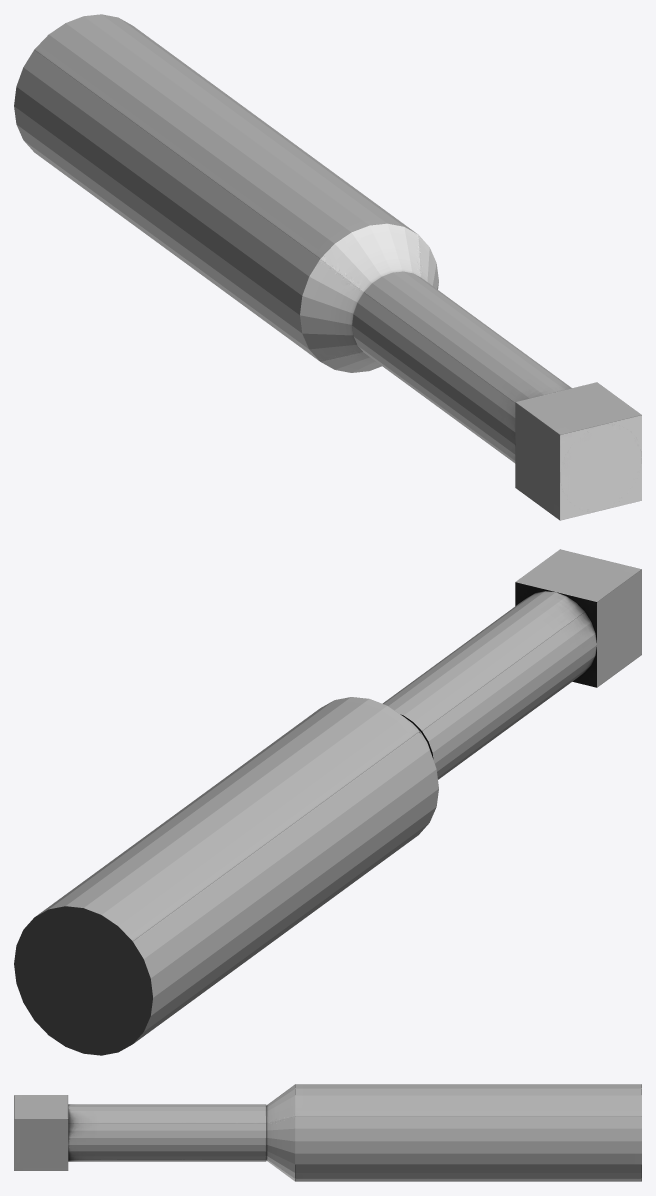
The model's file is dish_mount.obj.
3 renders of one model, top to bottom at view 1: azimuth 30°, elevation 25°; view 2: azimuth 150°, elevation 25°; view 3: azimuth 270°, elevation 25°, orthographic. The views are drawn at different scales.
Visible parts, largest first — view 1: geometry_1_1; view 2: geometry_1_1, geometry_0_0; view 3: geometry_1_1.
Part boxes in pixels (x1,y1,x2,y2): geometry_1_1: (14,14,641,520); geometry_1_1: (36,549,641,1043); geometry_0_0: (14,906,152,1055); geometry_1_1: (14,1084,641,1181).
Bounding box in the file's own units: 0.408 × 0.408 × 2.63.
Materials: 3 (1 with a texture image).
